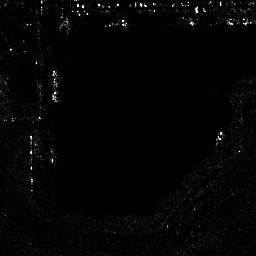ship: (50, 68, 59, 102)
